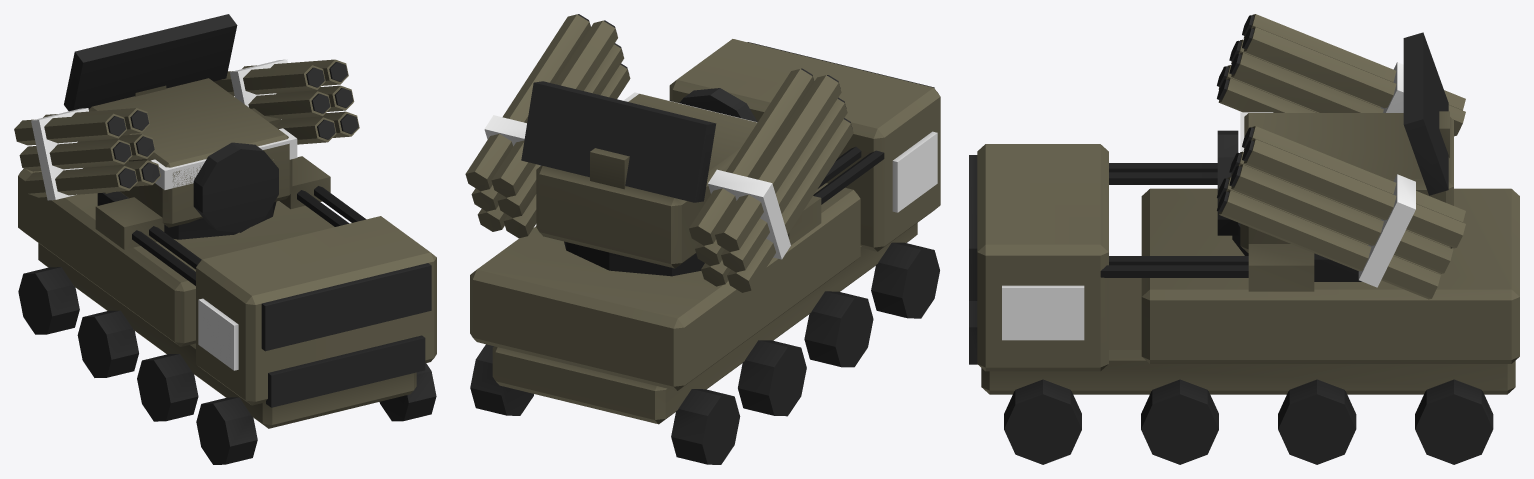
Rendered from ru-pantsir.glb.
3 renders of one model, left to right at view 1: azimuth 30°, elevation 25°; view 2: azimuth 150°, elevation 25°; view 3: azimuth 270°, elevation 25°, orthographic. The views are drawn at different scales.
Parts seen in each view (by area): view 1: ru-pantsir, turret; view 2: ru-pantsir, turret; view 3: ru-pantsir, turret.
Part boxes in pixels (x1=…): ru-pantsir: x1=18, y1=168, x2=436, y2=464; turret: x1=14, y1=14, x2=366, y2=285; ru-pantsir: x1=470, y1=39, x2=940, y2=464; turret: x1=465, y1=14, x2=884, y2=292; ru-pantsir: x1=969, y1=144, x2=1519, y2=464; turret: x1=1100, y1=14, x2=1465, y2=299.
Bounding box in the file's own units: 0.805 × 0.8884 × 1.34.
